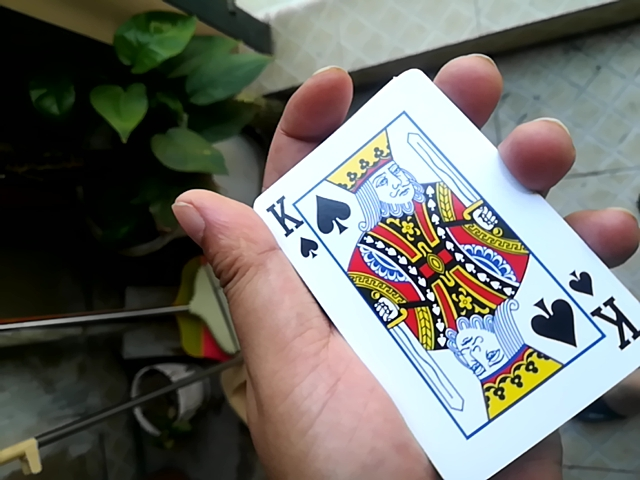ht k: (233, 60, 633, 475)
